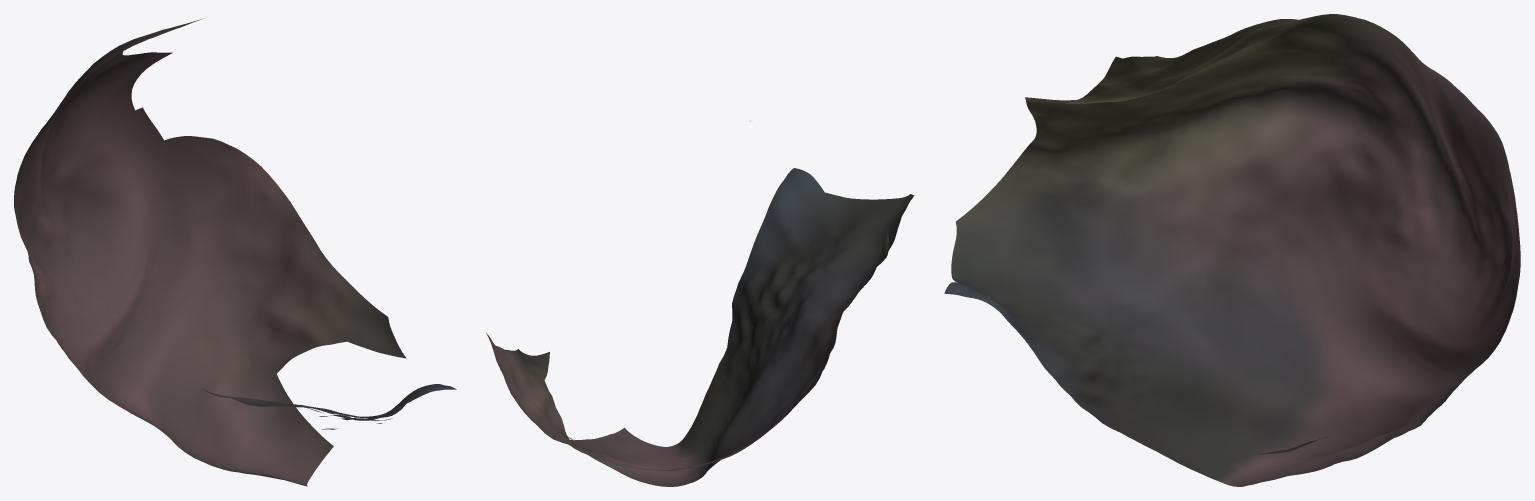
File: Cloud_global_new_6.glb
The picture shows the model from 3 angles, left to right: view 1: azimuth 30°, elevation 25°; view 2: azimuth 150°, elevation 25°; view 3: azimuth 270°, elevation 25°; orthographic projection. The views are drawn at different scales.
Visible parts, largest first — view 1: LOD0; view 2: LOD0; view 3: LOD0.
Part boxes in pixels (x1,y1,x2,y2): LOD0: (14,18,456,486); LOD0: (486,121,914,486); LOD0: (944,14,1520,486).
Size of what is drawn, in the model's own units: 0.9333 by 1.15 by 1.34.
